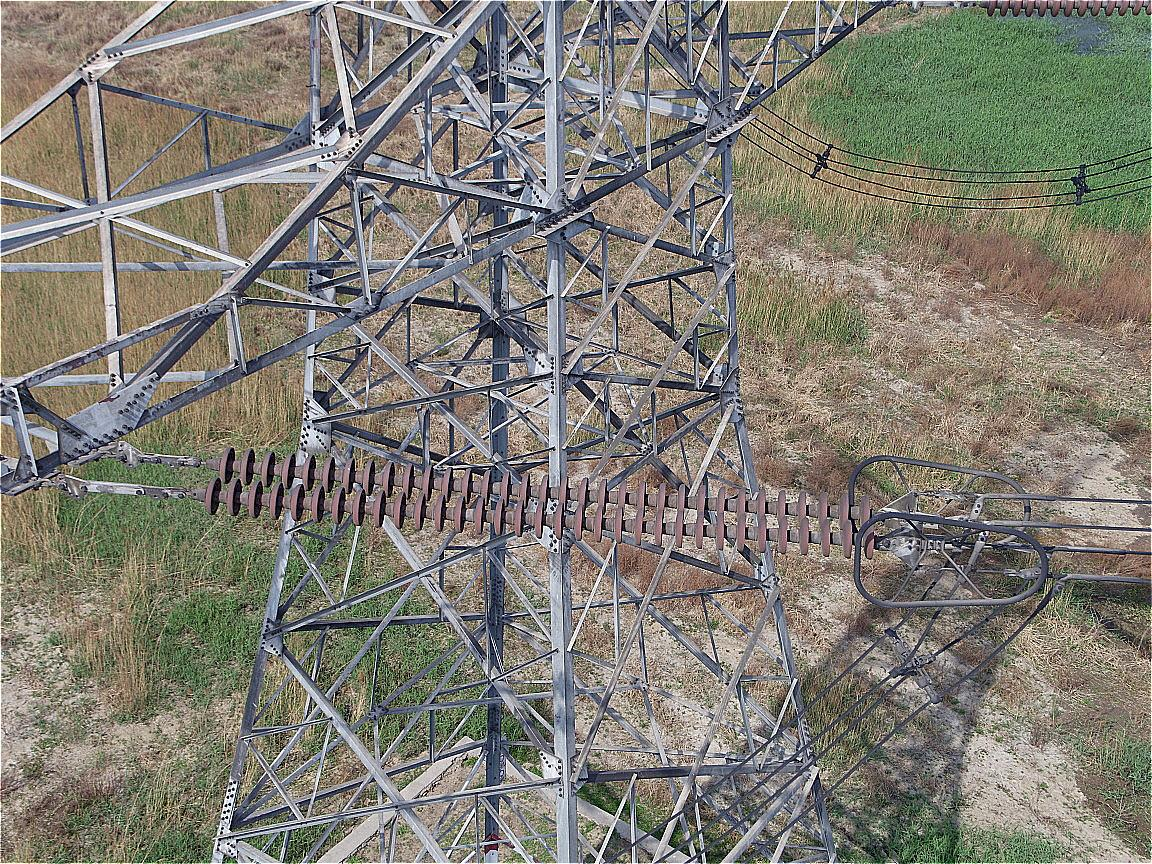insultor1: (203, 447, 876, 560)
